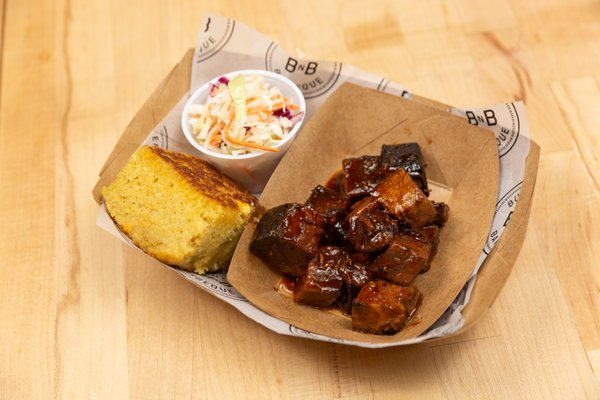sandwich: (268, 45, 525, 156)
soup: (101, 144, 261, 275)
sushi: (181, 69, 306, 190)
